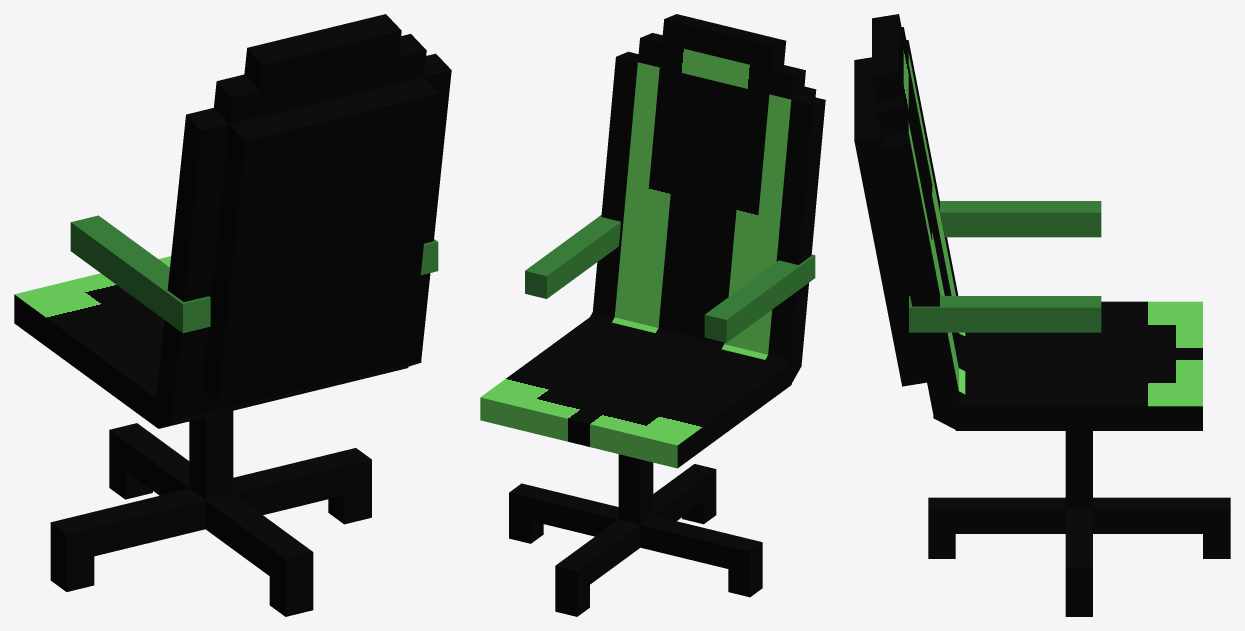
3 renders of one model, left to right at view 1: azimuth 30°, elevation 25°; view 2: azimuth 150°, elevation 25°; view 3: azimuth 270°, elevation 25°, orthographic. The views are drawn at different scales.
Parts seen in each view (by area): view 1: b006d1f1-c7ff-5cf9-a325-1e0152e2aa93_36, cbc06fa4-d322-d4a8-dbb4-65063f4a0caf_20, c860ea40-3b3c-6207-9c30-fed2c285e7b5_23, 00cc198b-f291-2c7f-c4a9-66ec51c74499_22, ef769bca-118e-e017-c5ad-ba7aa3c4ff0c_44, 256983bb-f901-cedd-c62e-32b8cb140e79_21, f306c8ed-6bd2-8fa2-f0b1-45aff9e54dfc_0, 63c8294b-4dcb-eba6-9cf9-b414212fa90b_45, f5c8c431-39d9-77cf-a813-fd0e8133e545_24, 70de85a5-a58b-054d-1254-a1685591bcf3_31, 83cd1cd2-0932-58cd-e62f-7d0b712ec786_34, 47eeb1f8-f710-805e-5a36-d5960fa0c767_29 (+13 smaller); view 2: b006d1f1-c7ff-5cf9-a325-1e0152e2aa93_36, cbc06fa4-d322-d4a8-dbb4-65063f4a0caf_20, c8d7f6e1-37a0-e3de-ed98-c6619ba671e3_12, fe37444a-1050-2ab1-b22b-c2a25a0b3efe_17, 723ac80a-34cc-de18-d67b-5923fc34ec35_16, fcea4f3c-c803-acb8-4d11-1f87fb527a7b_18, f599cc2f-48a3-468a-c670-4cffc05cd625_19, 0235a6a1-a9d4-0f39-9665-d052419fad80_13, 24b47974-e0ce-b03c-4a53-b3f14f18f9f5_15, 319177ad-5057-a8ed-ec78-1732acfea666_14, 256983bb-f901-cedd-c62e-32b8cb140e79_21, f306c8ed-6bd2-8fa2-f0b1-45aff9e54dfc_0 (+11 smaller); view 3: b006d1f1-c7ff-5cf9-a325-1e0152e2aa93_36, f599cc2f-48a3-468a-c670-4cffc05cd625_19, 81d7e31f-7f25-1a87-a020-cbafbb591795_1, f306c8ed-6bd2-8fa2-f0b1-45aff9e54dfc_0, 4c19da1a-fca8-0b96-3141-b45ebfc92afc_46, 6651a634-62dd-b55a-0510-d18e456a0e0b_47, 00cc198b-f291-2c7f-c4a9-66ec51c74499_22, c860ea40-3b3c-6207-9c30-fed2c285e7b5_23, 63c8294b-4dcb-eba6-9cf9-b414212fa90b_45, 99183618-f899-a26b-01cf-3837b8d1c6b1_43, 256983bb-f901-cedd-c62e-32b8cb140e79_21, 7dd8bb19-755c-7f01-66b3-657a2012c5de_10 (+20 smaller).
Part boxes in pixels (<box>): b006d1f1-c7ff-5cf9-a325-1e0152e2aa93_36: <box>14,256,408,428</box>; cbc06fa4-d322-d4a8-dbb4-65063f4a0caf_20: <box>156,108,229,421</box>; c860ea40-3b3c-6207-9c30-fed2c285e7b5_23: <box>227,77,439,167</box>; 00cc198b-f291-2c7f-c4a9-66ec51c74499_22: <box>244,14,401,90</box>; ef769bca-118e-e017-c5ad-ba7aa3c4ff0c_44: <box>50,488,205,562</box>; 256983bb-f901-cedd-c62e-32b8cb140e79_21: <box>214,34,426,124</box>; f306c8ed-6bd2-8fa2-f0b1-45aff9e54dfc_0: <box>70,215,210,333</box>; 63c8294b-4dcb-eba6-9cf9-b414212fa90b_45: <box>233,448,371,514</box>; f5c8c431-39d9-77cf-a813-fd0e8133e545_24: <box>224,120,436,193</box>; 70de85a5-a58b-054d-1254-a1685591bcf3_31: <box>210,253,422,326</box>; 83cd1cd2-0932-58cd-e62f-7d0b712ec786_34: <box>213,226,425,300</box>; 47eeb1f8-f710-805e-5a36-d5960fa0c767_29: <box>204,306,417,379</box>; b006d1f1-c7ff-5cf9-a325-1e0152e2aa93_36: <box>480,317,791,468</box>; cbc06fa4-d322-d4a8-dbb4-65063f4a0caf_20: <box>768,94,825,368</box>; c8d7f6e1-37a0-e3de-ed98-c6619ba671e3_12: <box>680,78,725,338</box>; fe37444a-1050-2ab1-b22b-c2a25a0b3efe_17: <box>636,67,681,327</box>; 723ac80a-34cc-de18-d67b-5923fc34ec35_16: <box>658,73,703,333</box>; fcea4f3c-c803-acb8-4d11-1f87fb527a7b_18: <box>614,62,659,322</box>; f599cc2f-48a3-468a-c670-4cffc05cd625_19: <box>592,51,638,317</box>; 0235a6a1-a9d4-0f39-9665-d052419fad80_13: <box>702,83,747,343</box>; 24b47974-e0ce-b03c-4a53-b3f14f18f9f5_15: <box>724,89,769,349</box>; 319177ad-5057-a8ed-ec78-1732acfea666_14: <box>746,94,791,354</box>; 256983bb-f901-cedd-c62e-32b8cb140e79_21: <box>638,33,805,99</box>; f306c8ed-6bd2-8fa2-f0b1-45aff9e54dfc_0: <box>704,254,815,342</box>; b006d1f1-c7ff-5cf9-a325-1e0152e2aa93_36: <box>955,301,1202,430</box>; f599cc2f-48a3-468a-c670-4cffc05cd625_19: <box>881,132,960,418</box>; 81d7e31f-7f25-1a87-a020-cbafbb591795_1: <box>909,296,1101,332</box>; f306c8ed-6bd2-8fa2-f0b1-45aff9e54dfc_0: <box>940,201,1101,237</box>; 4c19da1a-fca8-0b96-3141-b45ebfc92afc_46: <box>1093,497,1230,533</box>; 6651a634-62dd-b55a-0510-d18e456a0e0b_47: <box>928,497,1065,533</box>; 00cc198b-f291-2c7f-c4a9-66ec51c74499_22: <box>872,14,903,100</box>; c860ea40-3b3c-6207-9c30-fed2c285e7b5_23: <box>854,57,883,165</box>; 63c8294b-4dcb-eba6-9cf9-b414212fa90b_45: <box>1065,509,1092,591</box>; 99183618-f899-a26b-01cf-3837b8d1c6b1_43: <box>1065,431,1092,508</box>; 256983bb-f901-cedd-c62e-32b8cb140e79_21: <box>876,27,908,136</box>; 7dd8bb19-755c-7f01-66b3-657a2012c5de_10: <box>933,391,970,430</box>.
Size of the model in its own units: 0.6875 by 1.28 by 0.8554.
Materials: 1 (1 with a texture image).
